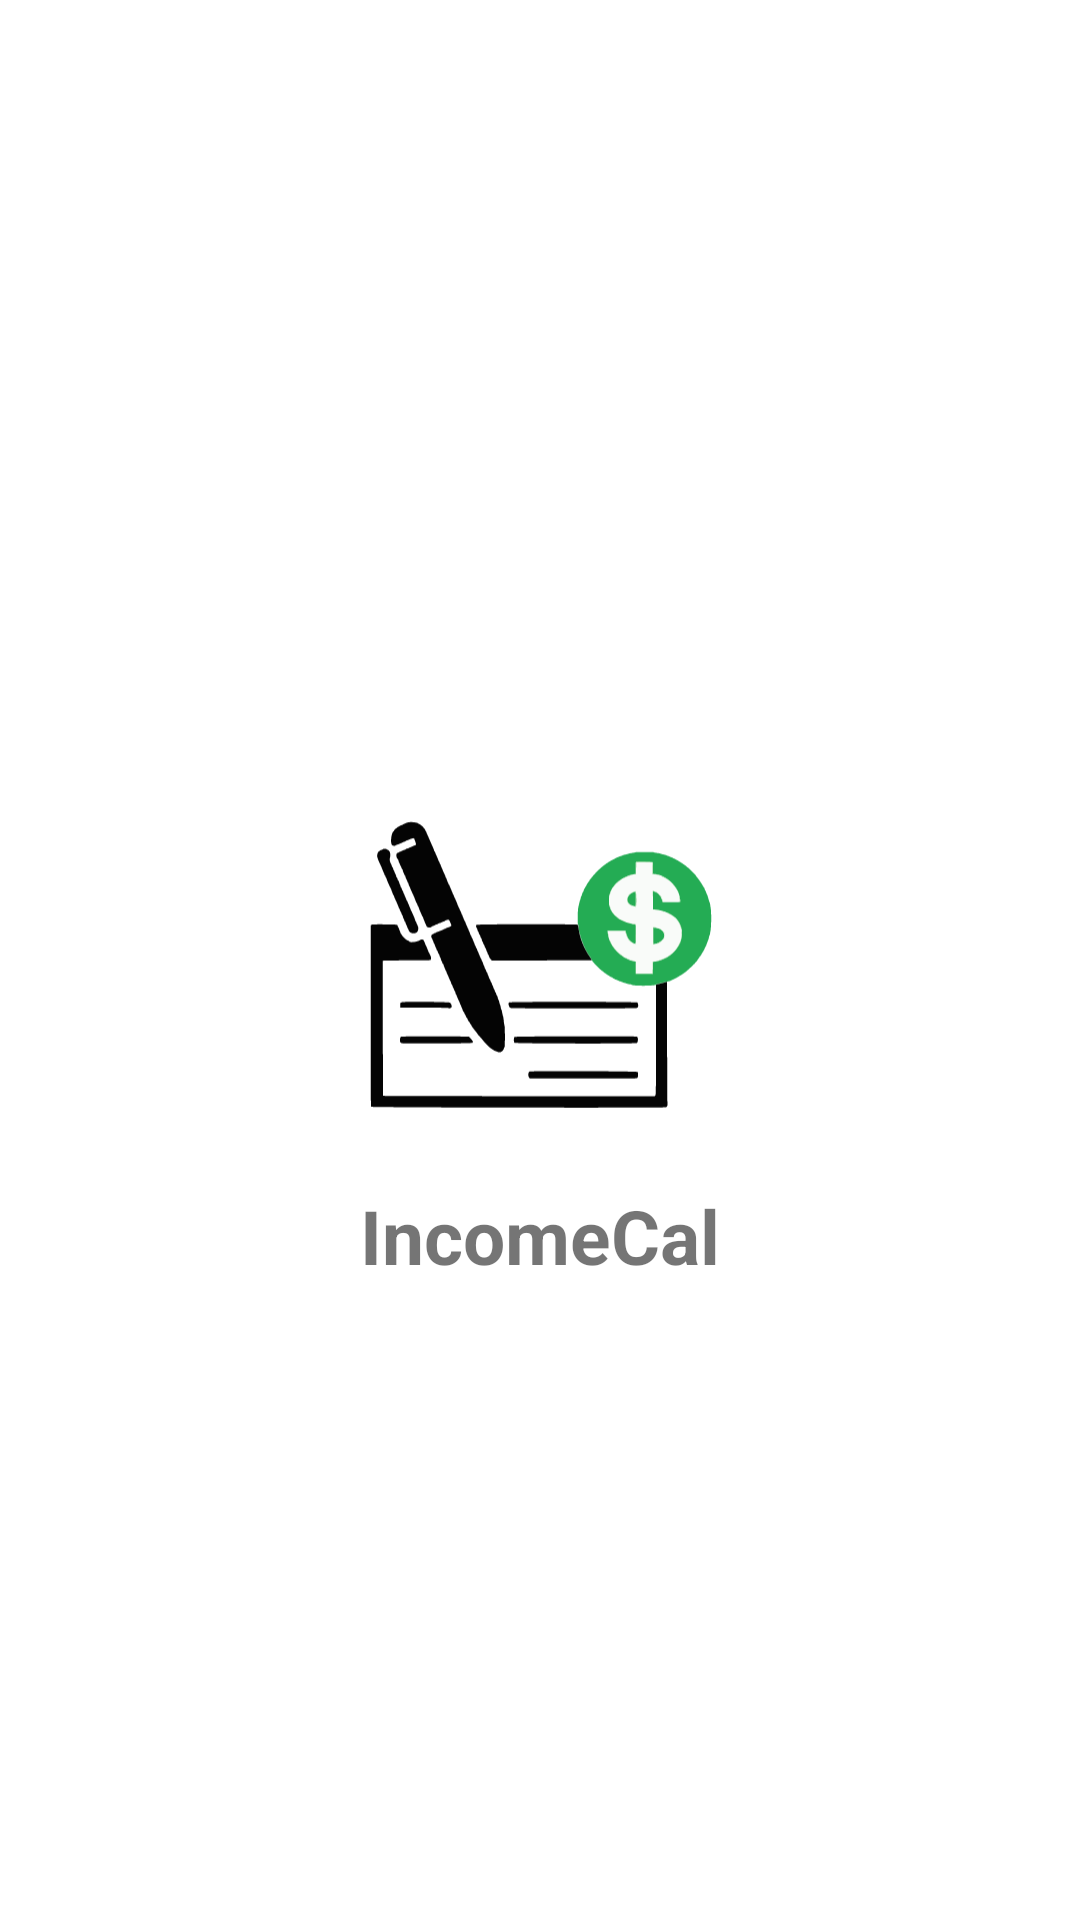

Where to tap for icons on this 1080 × 1920 app screen, as [x,y]:
app: [541,964]
